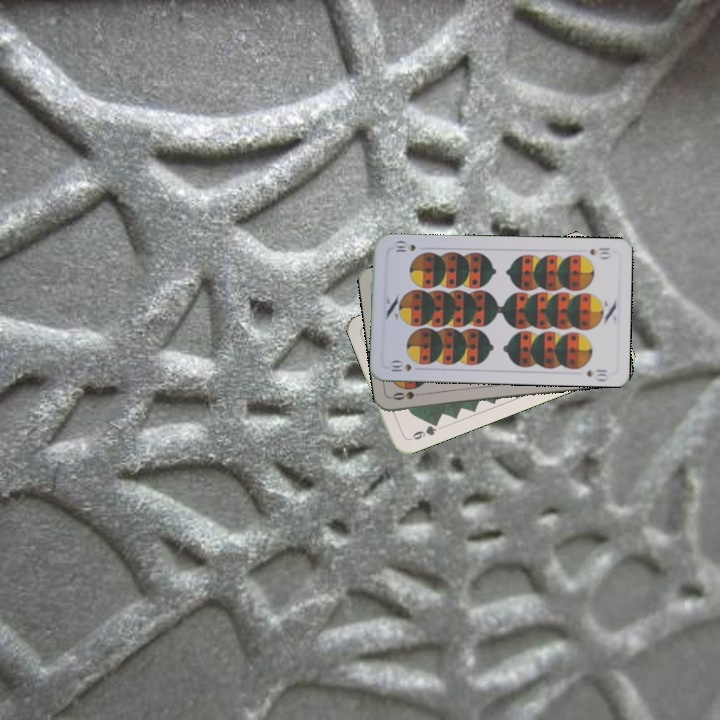G9: (404, 418, 441, 443)
S10: (386, 357, 414, 374), (585, 244, 613, 261)
SO: (388, 387, 429, 402)
